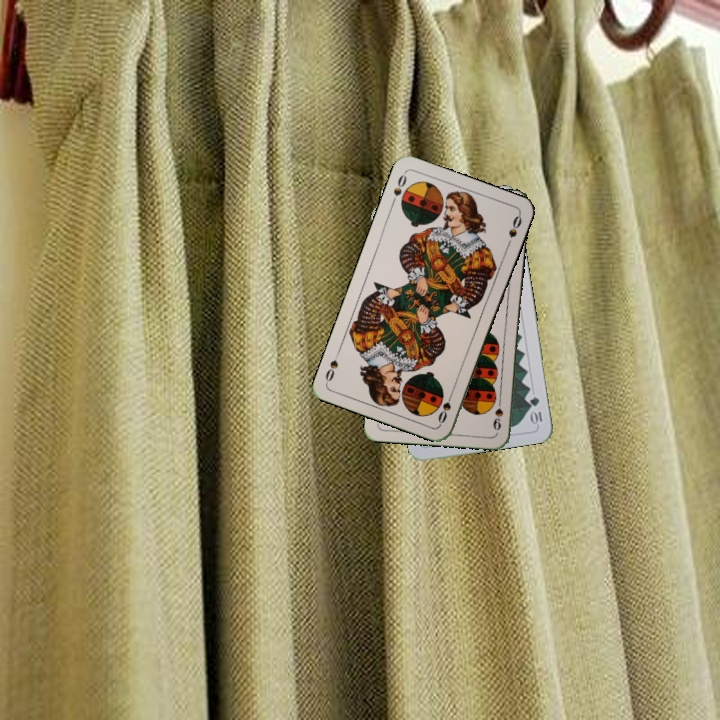G10: (526, 393, 545, 427)
S9: (489, 393, 505, 433)
SO: (434, 387, 456, 427), (387, 170, 409, 208)
